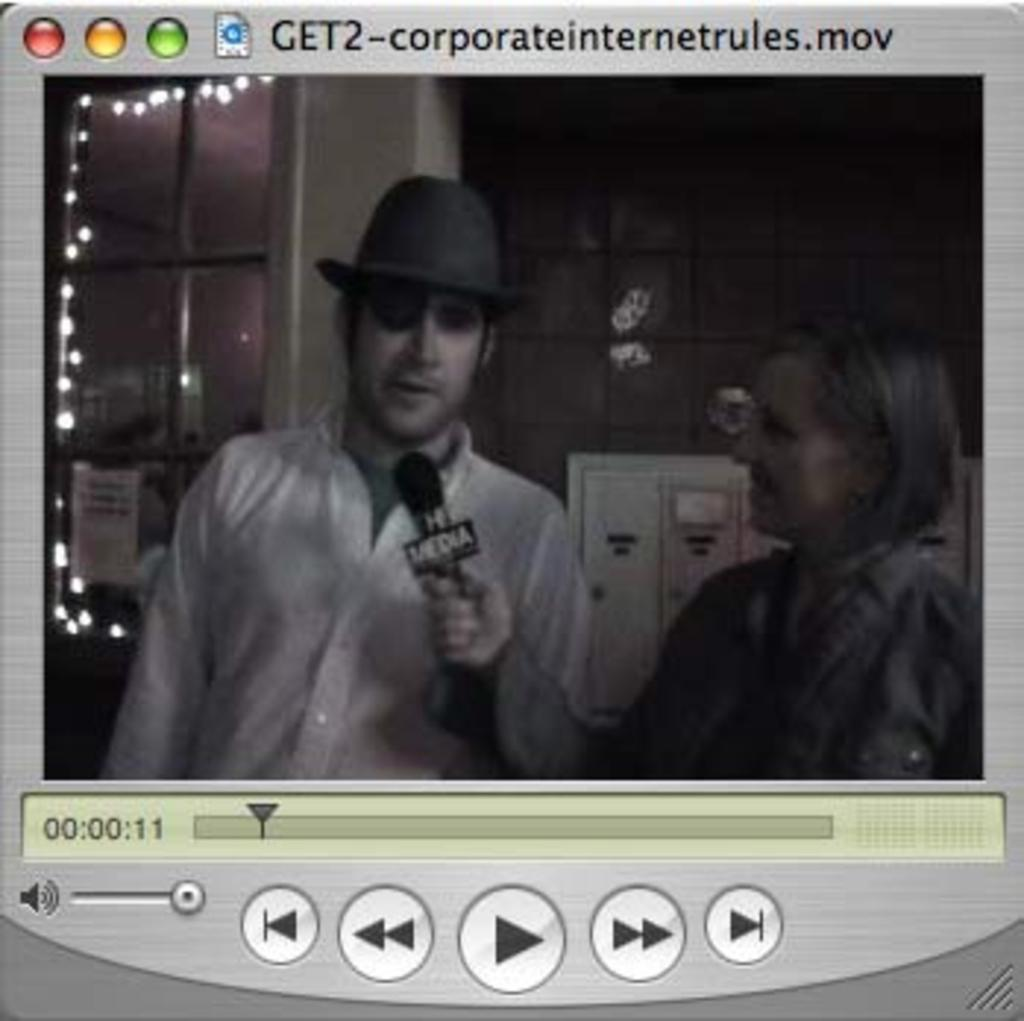Hat: (310, 175, 546, 325)
